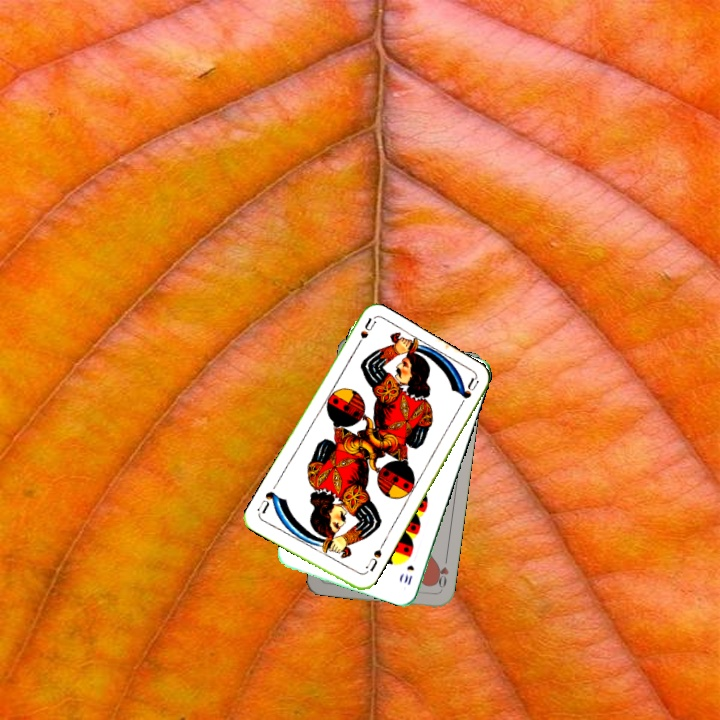HO: (431, 554, 451, 595)
S10: (400, 561, 417, 588)
SU: (350, 315, 378, 354), (359, 540, 386, 577)
